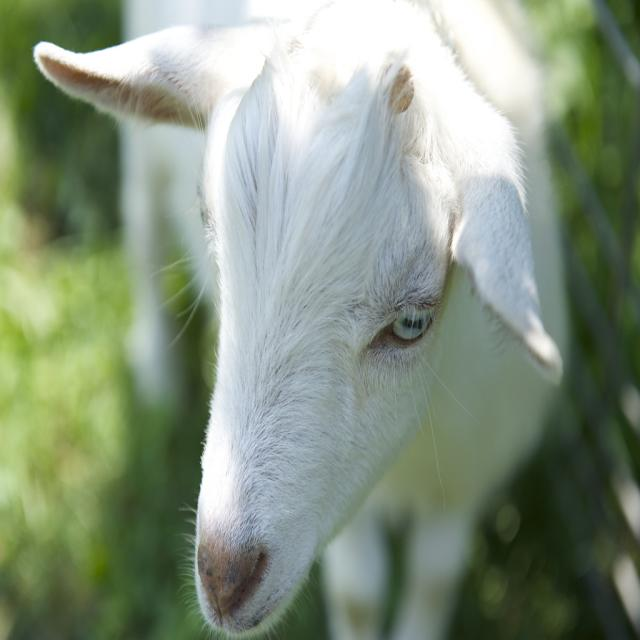Goat: (32, 0, 573, 640)
